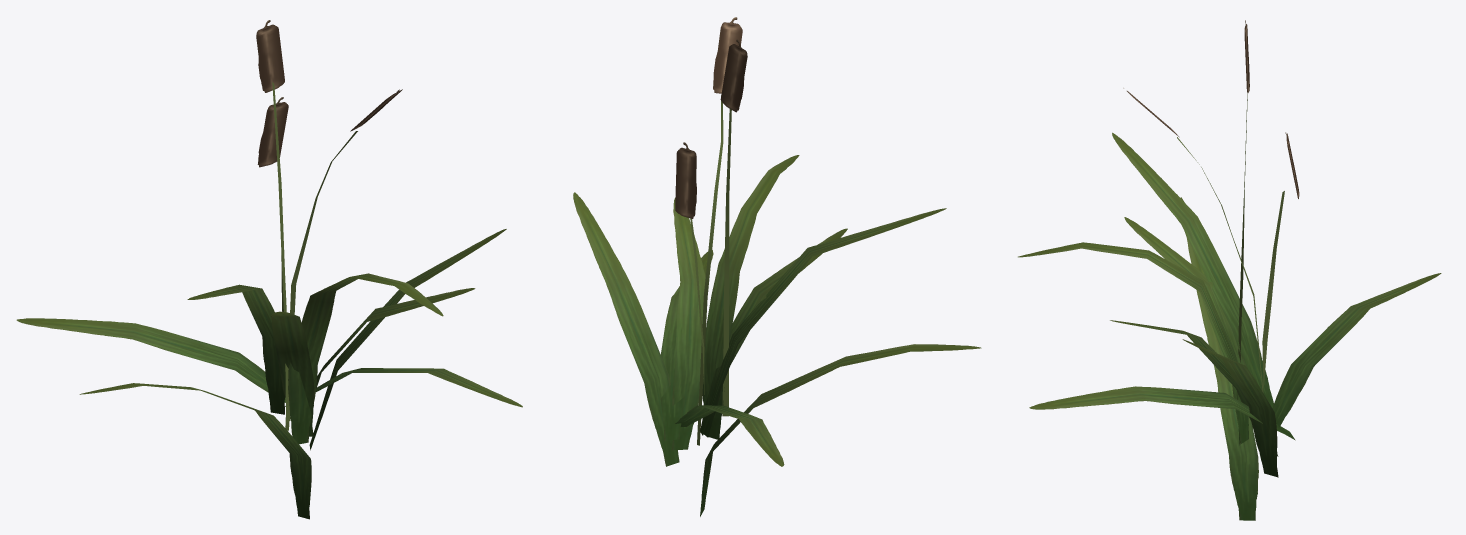
File: Grass_F_1.fbx
3 views of the same model, side by side, from view 1: azimuth 30°, elevation 25°; view 2: azimuth 150°, elevation 25°; view 3: azimuth 270°, elevation 25° (orthographic). The views are drawn at different scales.
Parts seen in each view (by area): view 1: Grass_F_1__17_; view 2: Grass_F_1__17_; view 3: Grass_F_1__17_.
Boxes of the visible parts, x1=… form: Grass_F_1__17_: x1=16, y1=20, x2=522, y2=519; Grass_F_1__17_: x1=573, y1=17, x2=981, y2=516; Grass_F_1__17_: x1=1018, y1=20, x2=1441, y2=520.
Size of the model in its own units: 0.3712 by 0.4148 by 0.3358.
